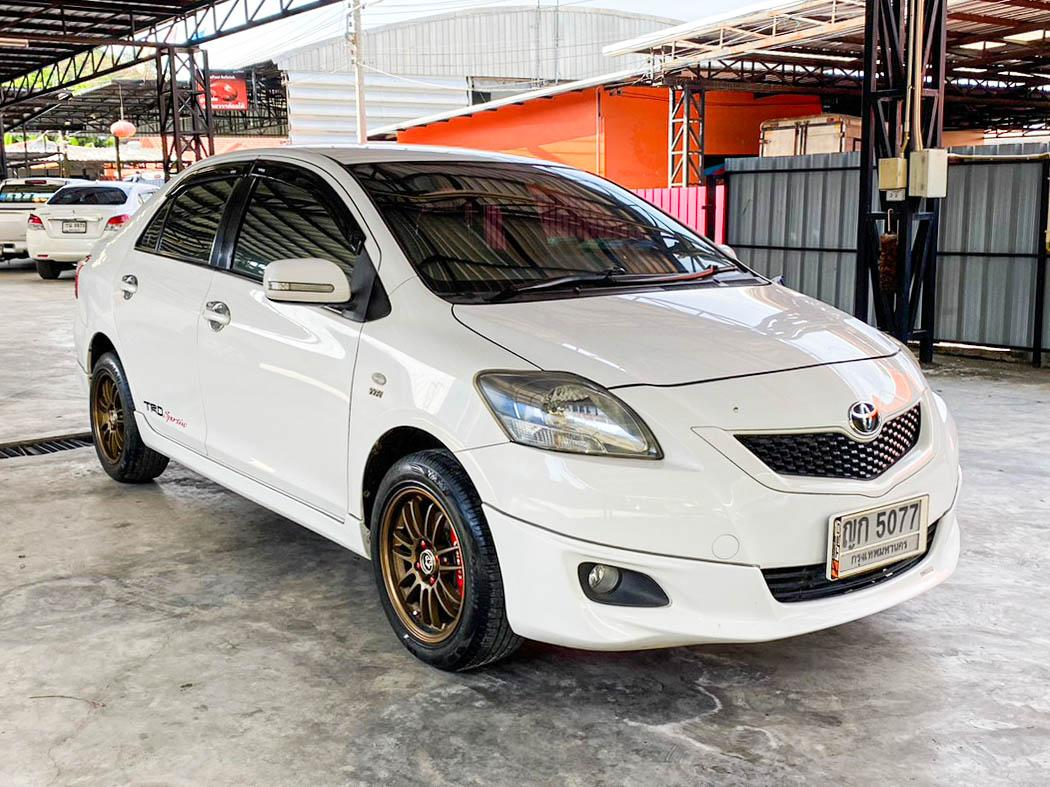license-plate: (815, 486, 949, 589)
